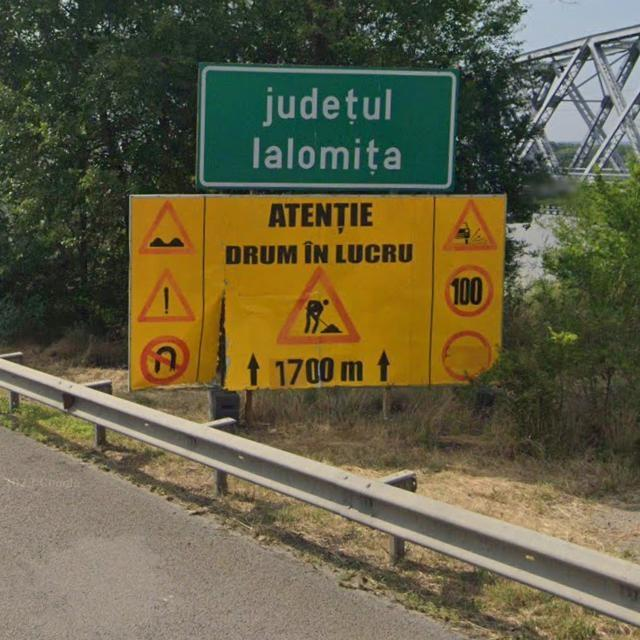forb_speed_over_100: (445, 264, 495, 317)
